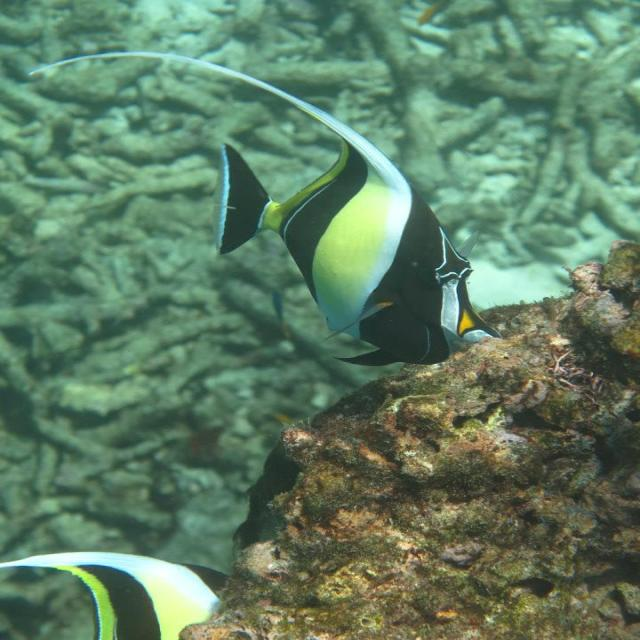MorishIdol: (26, 49, 505, 369)
